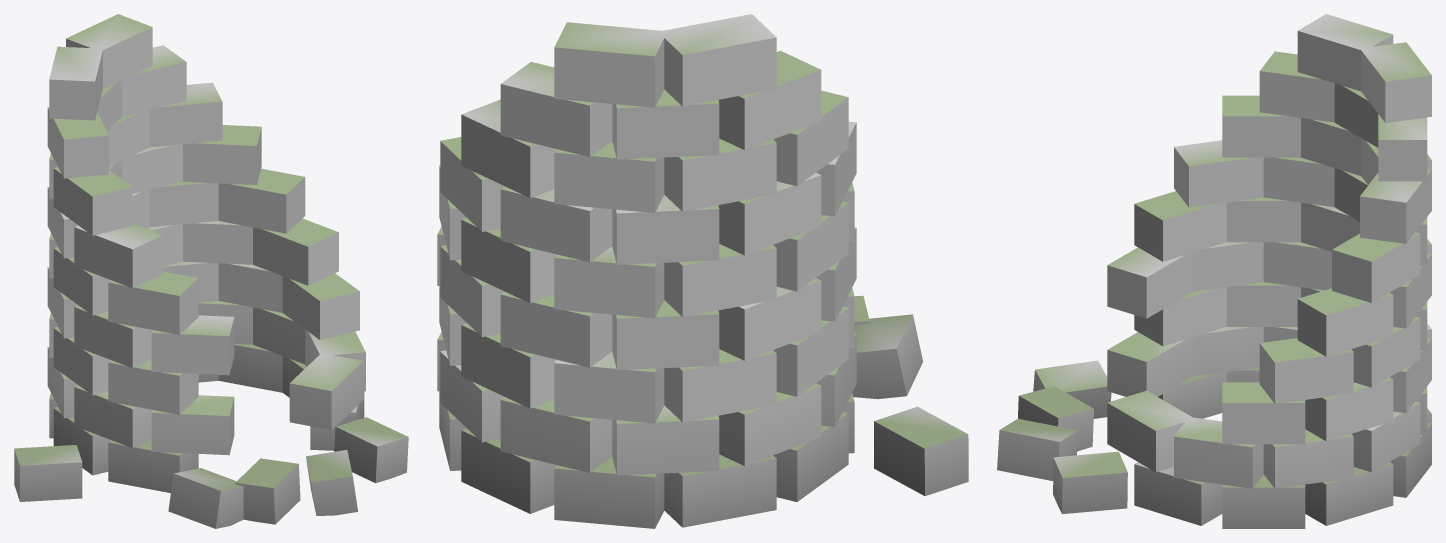
Rendered from tower_ruined.glb.
3 renders of one model, left to right at view 1: azimuth 30°, elevation 25°; view 2: azimuth 150°, elevation 25°; view 3: azimuth 270°, elevation 25°, orthographic. The views are drawn at different scales.
Visible parts, largest first — view 1: tower_ruined; view 2: tower_ruined; view 3: tower_ruined.
Boxes of the visible parts, x1=… form: tower_ruined: x1=14, y1=14, x2=408, y2=528; tower_ruined: x1=437, y1=14, x2=968, y2=528; tower_ruined: x1=997, y1=14, x2=1431, y2=528.
Bounding box in the file's own units: 3.88 × 3.77 × 3.91.
